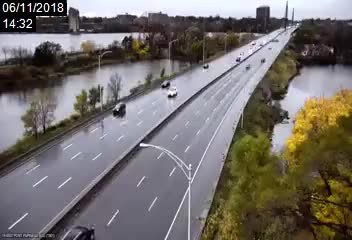personal_car: (60, 222, 98, 240), (112, 102, 126, 115), (166, 85, 180, 98), (160, 79, 171, 87), (202, 62, 209, 69)
